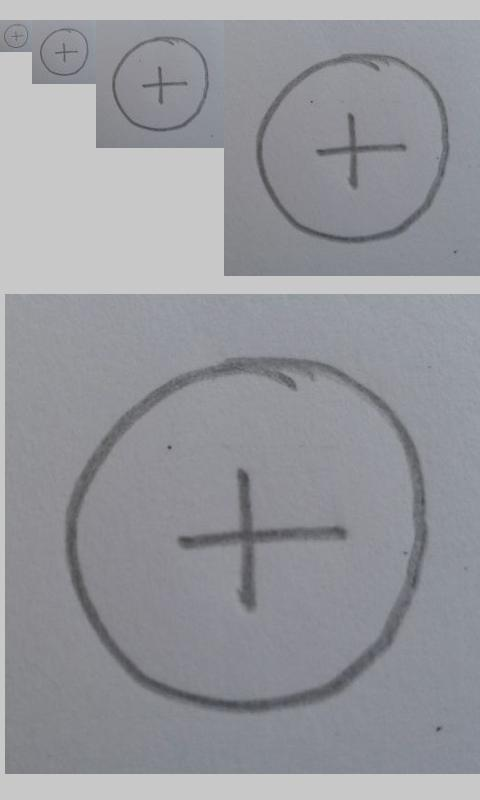button: (62, 357, 427, 716), (255, 53, 450, 244), (112, 36, 209, 132), (39, 28, 89, 76), (3, 24, 29, 48)
